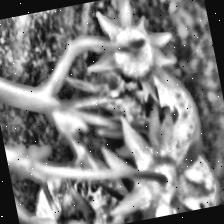Gray Mold: (80, 65, 152, 136)
